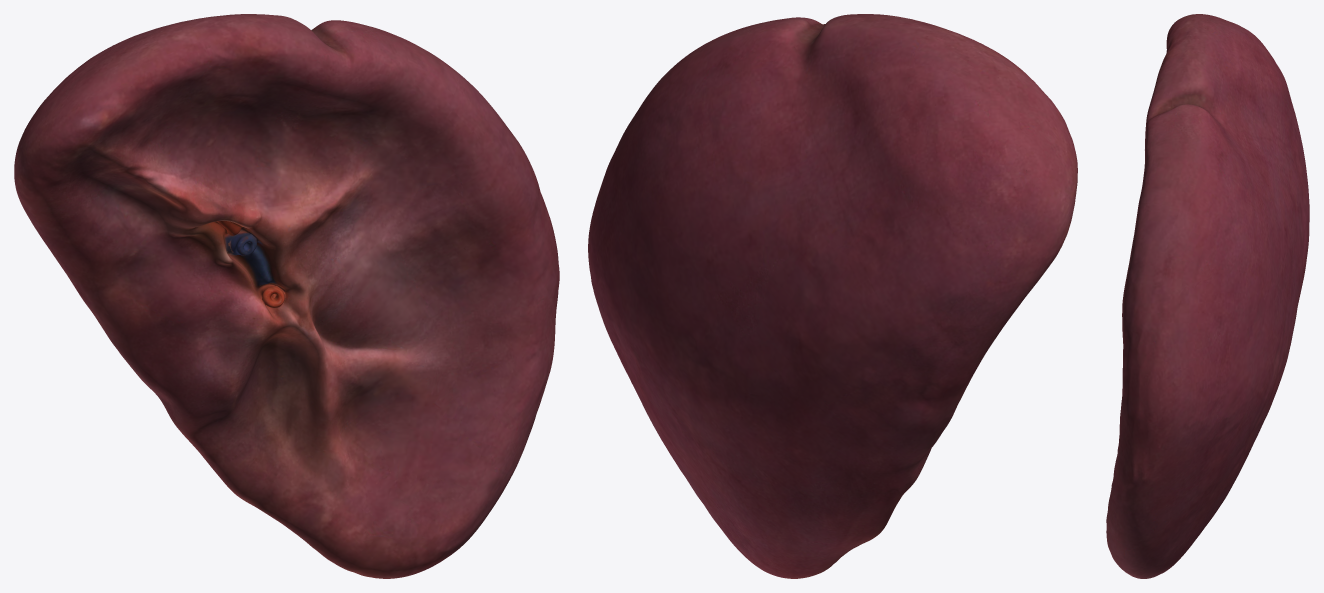
Rendered from meshopt-halftex-v1-8eb0b3362991.glb.
3 renders of one model, left to right at view 1: azimuth 30°, elevation 25°; view 2: azimuth 150°, elevation 25°; view 3: azimuth 270°, elevation 25°, orthographic. The views are drawn at different scales.
Size of the model in its own units: 1.7 by 1.9 by 0.7346.
Materials: 1 (1 with a texture image).
